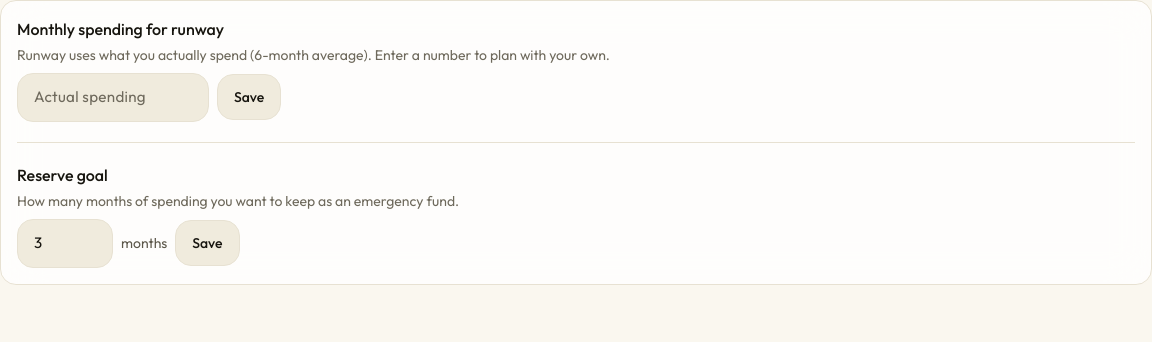
Test: Assumptions in Settings (#201) › says so when a save fails instead of claiming success
Click the button "Save" below "Reserve goal" at [207, 243], box x1=175 y1=220 x2=240 y2=266
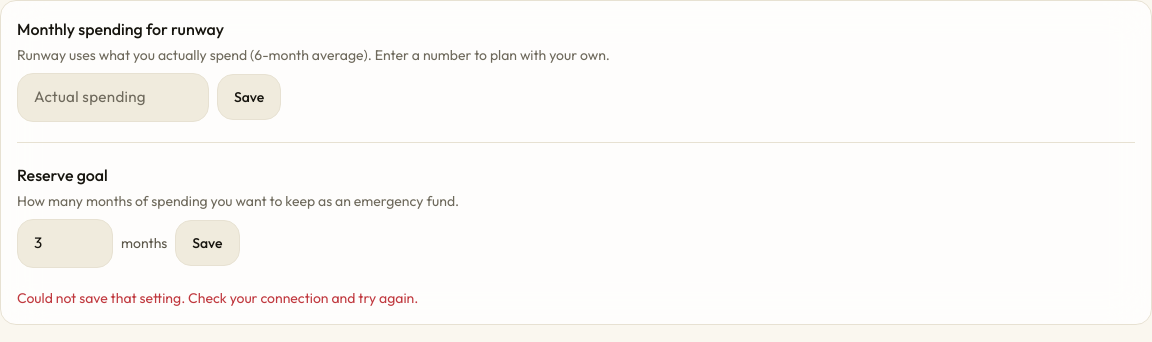
Expected: the message shows "Could not save that setting", x1=17 y1=289 x2=418 y2=307
